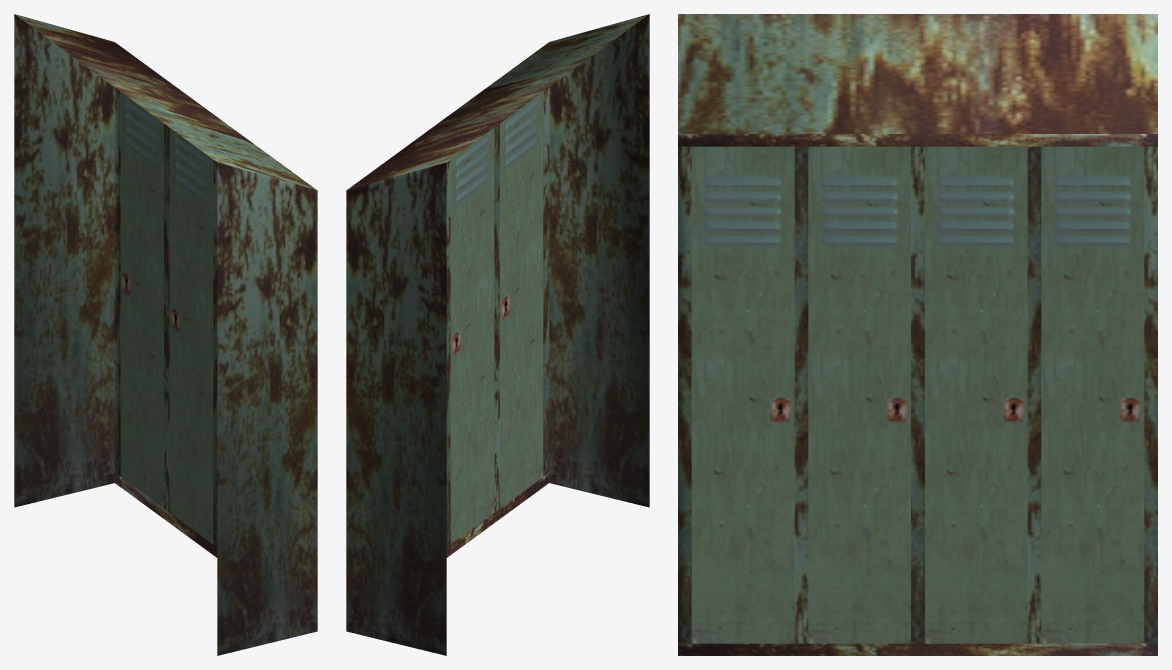
File: Locker1.obj
3 views of the same model, side by side, from view 1: azimuth 30°, elevation 25°; view 2: azimuth 150°, elevation 25°; view 3: azimuth 270°, elevation 25° (orthographic). The views are drawn at different scales.
Parts seen in each view (by area): view 1: Locker1; view 2: Locker1; view 3: Locker1.
Part boxes in pixels (x1,y1,x2,y2): Locker1: (14,14,317,655); Locker1: (346,14,649,655); Locker1: (678,14,1157,655).
Bounding box in the file's own units: 2 × 9.4 × 7.
